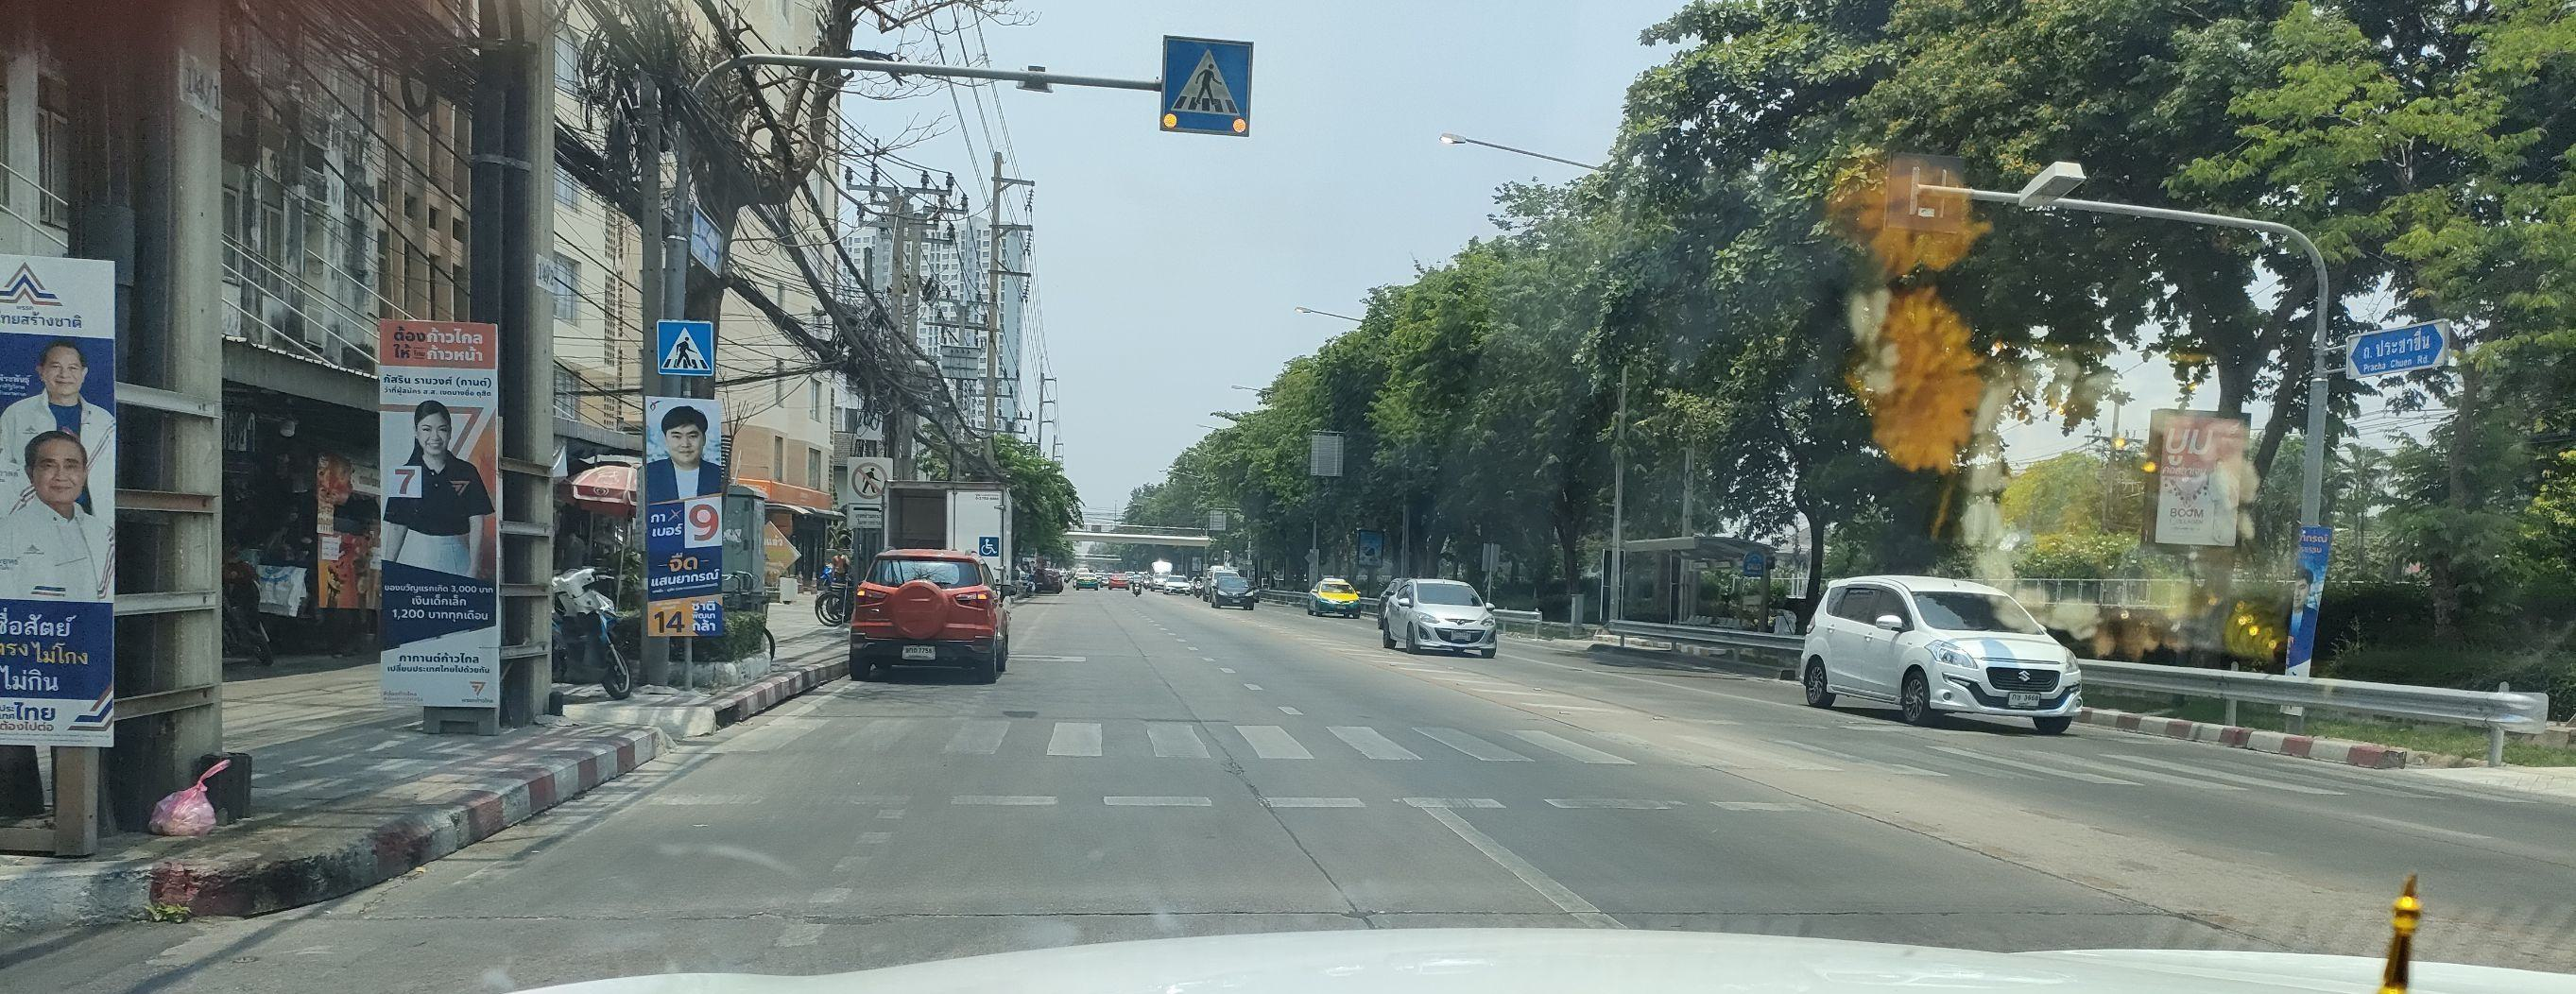Banner: (0, 256, 123, 744), (368, 319, 504, 713), (642, 398, 728, 644)
